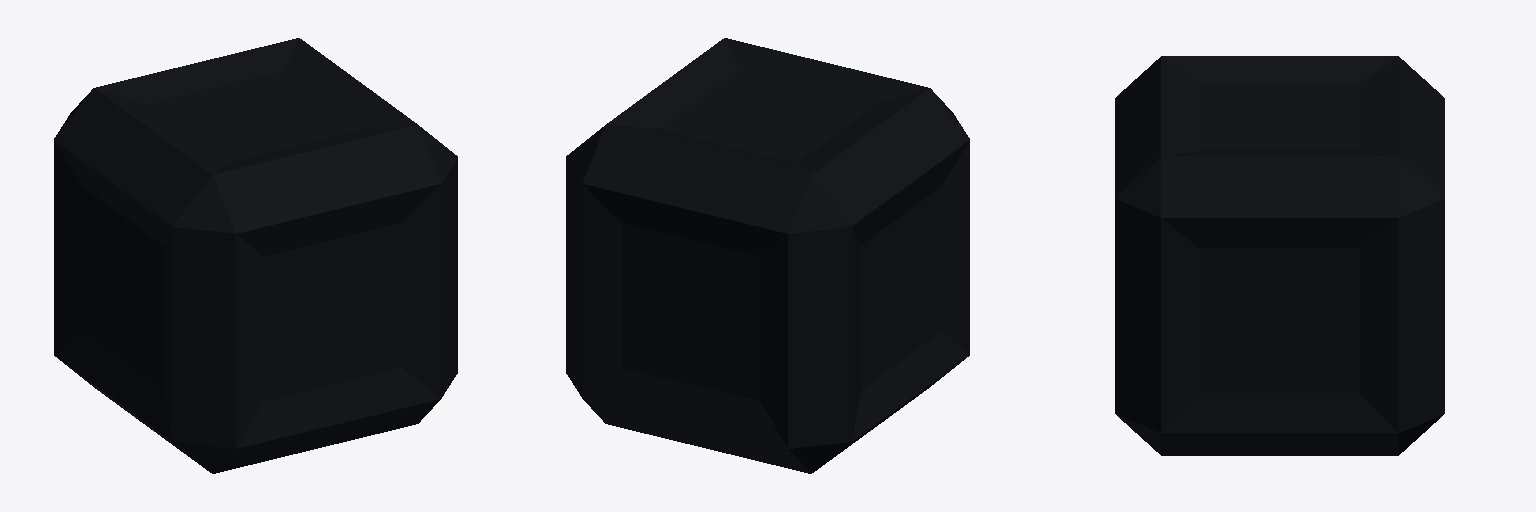
File: placeholder_box.obj
3 renders of one model, left to right at view 1: azimuth 30°, elevation 25°; view 2: azimuth 150°, elevation 25°; view 3: azimuth 270°, elevation 25°, orthographic.
Parts seen in each view (by area): view 1: Cube; view 2: Cube; view 3: Cube.
Boxes of the visible parts, <box> form: Cube: <box>54,38,457,473</box>; Cube: <box>566,38,969,473</box>; Cube: <box>1115,56,1444,455</box>.
Bounding box in the file's own units: 2 × 2 × 2.